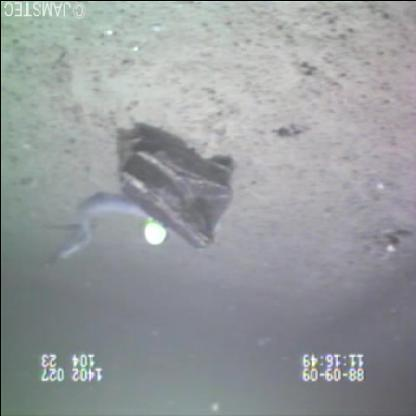Bio: (35, 184, 157, 274)
Rác: (113, 123, 240, 253)
